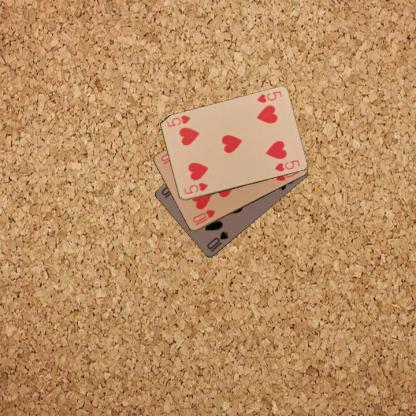10h: (190, 207, 216, 227)
10s: (204, 229, 229, 254)
5h: (254, 89, 283, 104), (182, 180, 209, 196)
